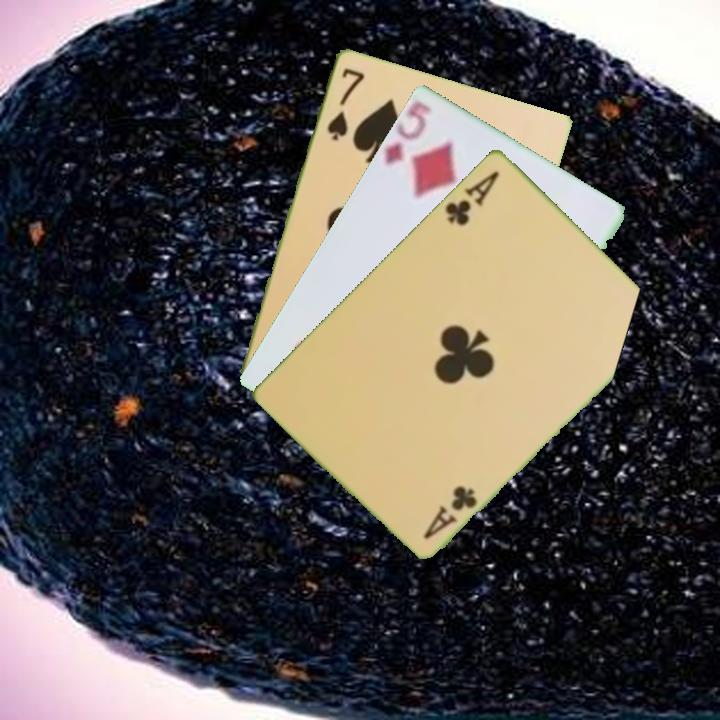5d: (381, 101, 431, 168)
7s: (323, 64, 367, 143)
Ac: (441, 166, 502, 228), (419, 481, 480, 542)
